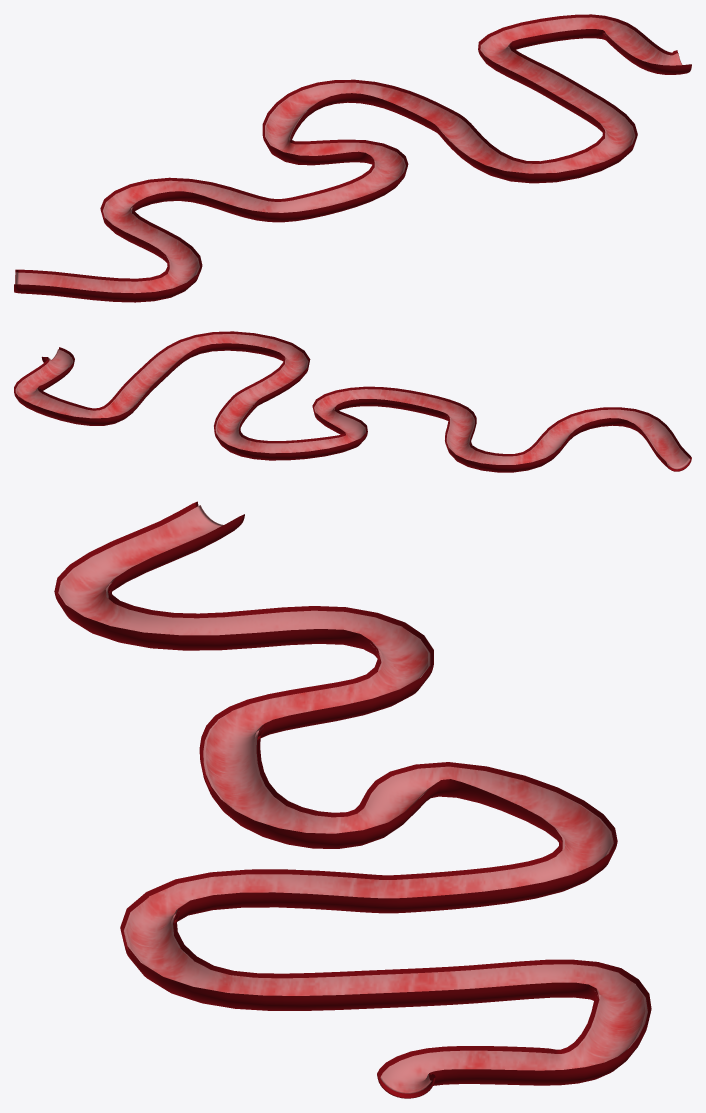
File: Vena01.fbx
3 views of the same model, one above another, from view 1: azimuth 30°, elevation 25°; view 2: azimuth 150°, elevation 25°; view 3: azimuth 270°, elevation 25° (orthographic). The views are drawn at different scales.
Parts seen in each view (by area): view 1: Vena01; view 2: Vena01; view 3: Vena01.
Part boxes in pixels (x1,y1,x2,y2): Vena01: [14, 14, 691, 302]; Vena01: [14, 331, 691, 472]; Vena01: [54, 501, 651, 1098].
Bounding box in the file's own units: 5680 × 106 × 2485.
Materials: 1 (1 with a texture image).
